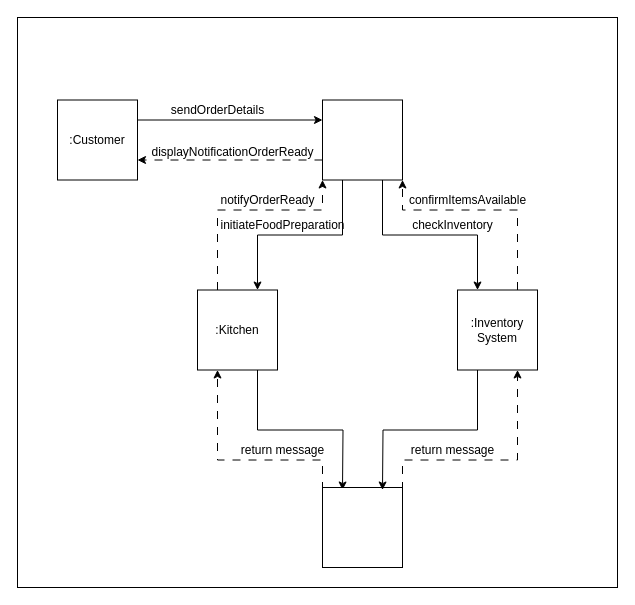
Image size: 635x605. Some labels were removed from this diagram. Each missing label, with the centre of its shape:
":Notification System" goes at (362,527).
":Order Processing System" goes at (362,139).
